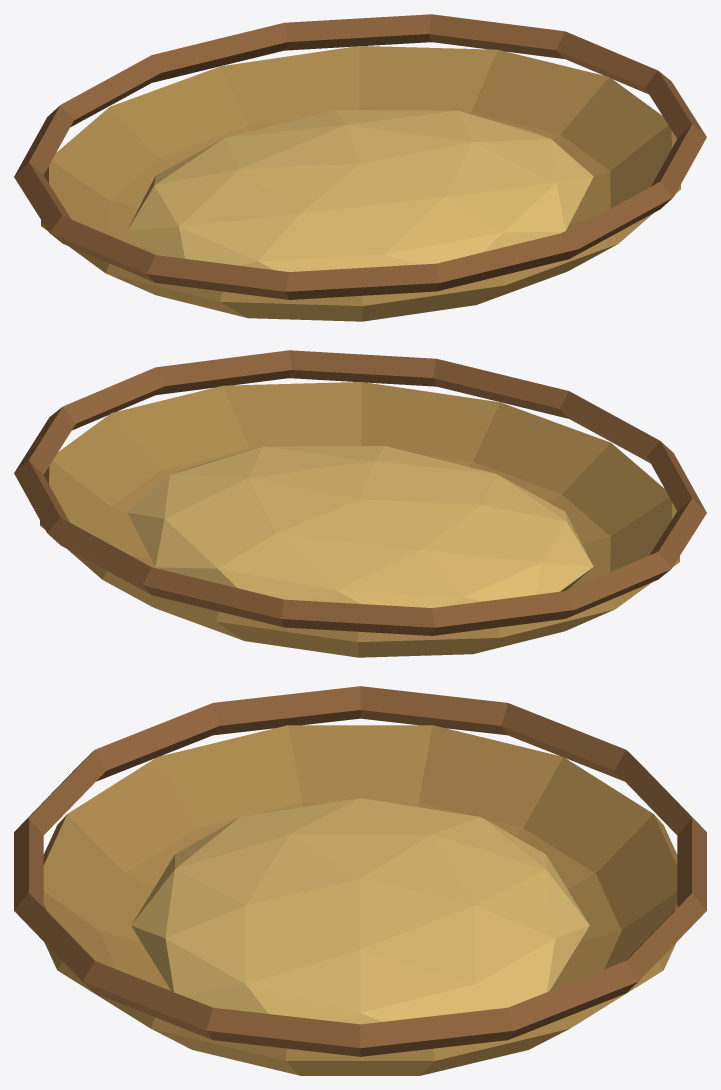
The model's file is winnowing_basket.glb.
3 renders of one model, top to bottom at view 1: azimuth 30°, elevation 25°; view 2: azimuth 150°, elevation 25°; view 3: azimuth 270°, elevation 25°, orthographic. The views are drawn at different scales.
Visible parts, largest first — view 1: winnowing_basket, grain; view 2: winnowing_basket, grain; view 3: winnowing_basket, grain.
Part boxes in pixels (x1,y1,x2,y2): winnowing_basket: [14, 14, 706, 321]; grain: [127, 110, 593, 271]; winnowing_basket: [14, 350, 706, 657]; grain: [127, 446, 593, 607]; winnowing_basket: [14, 686, 706, 1075]; grain: [131, 798, 589, 1024].
Size of the model in its own units: 0.7 by 0.1238 by 0.5801.
